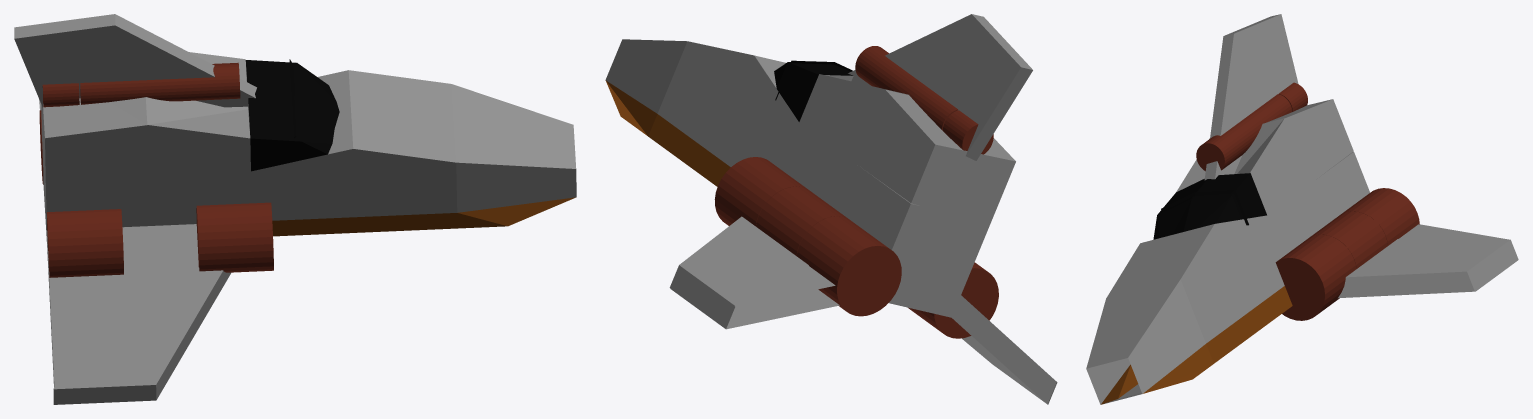
Rendered from bsg.obj.
3 renders of one model, left to right at view 1: azimuth 30°, elevation 25°; view 2: azimuth 150°, elevation 25°; view 3: azimuth 270°, elevation 25°, orthographic. The views are drawn at different scales.
Bounding box in the file's own units: 6.18 × 4.47 × 5.26.
